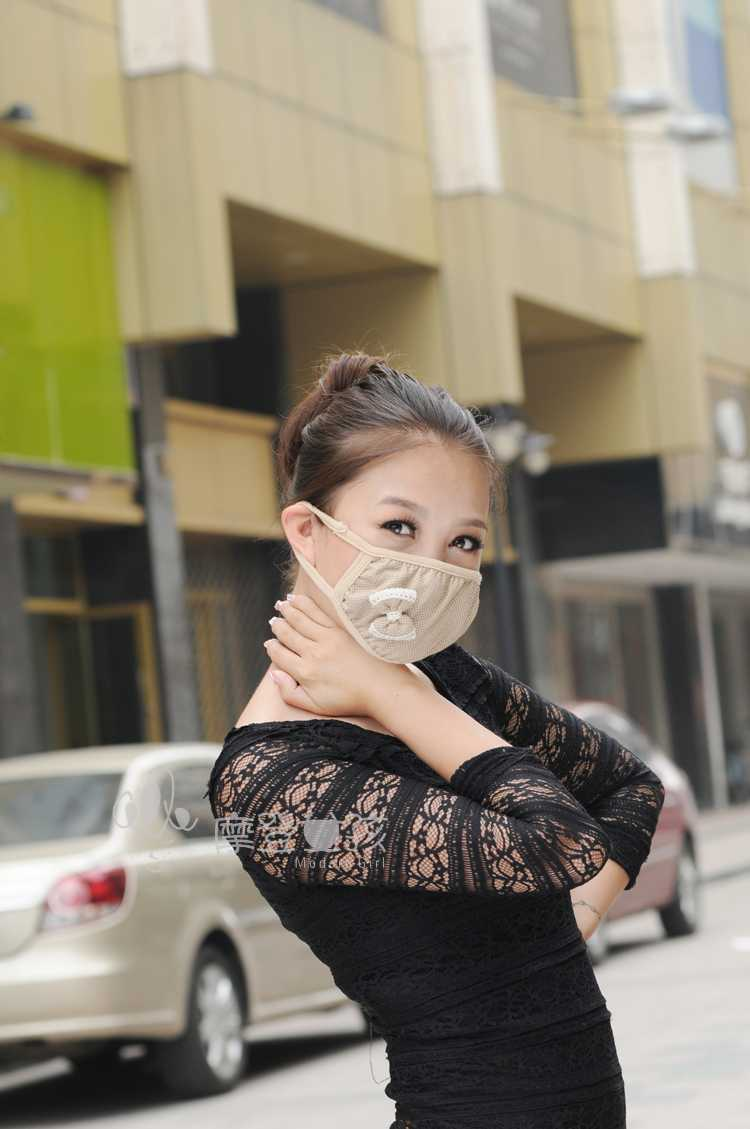face_mask: (321, 435, 489, 665)
